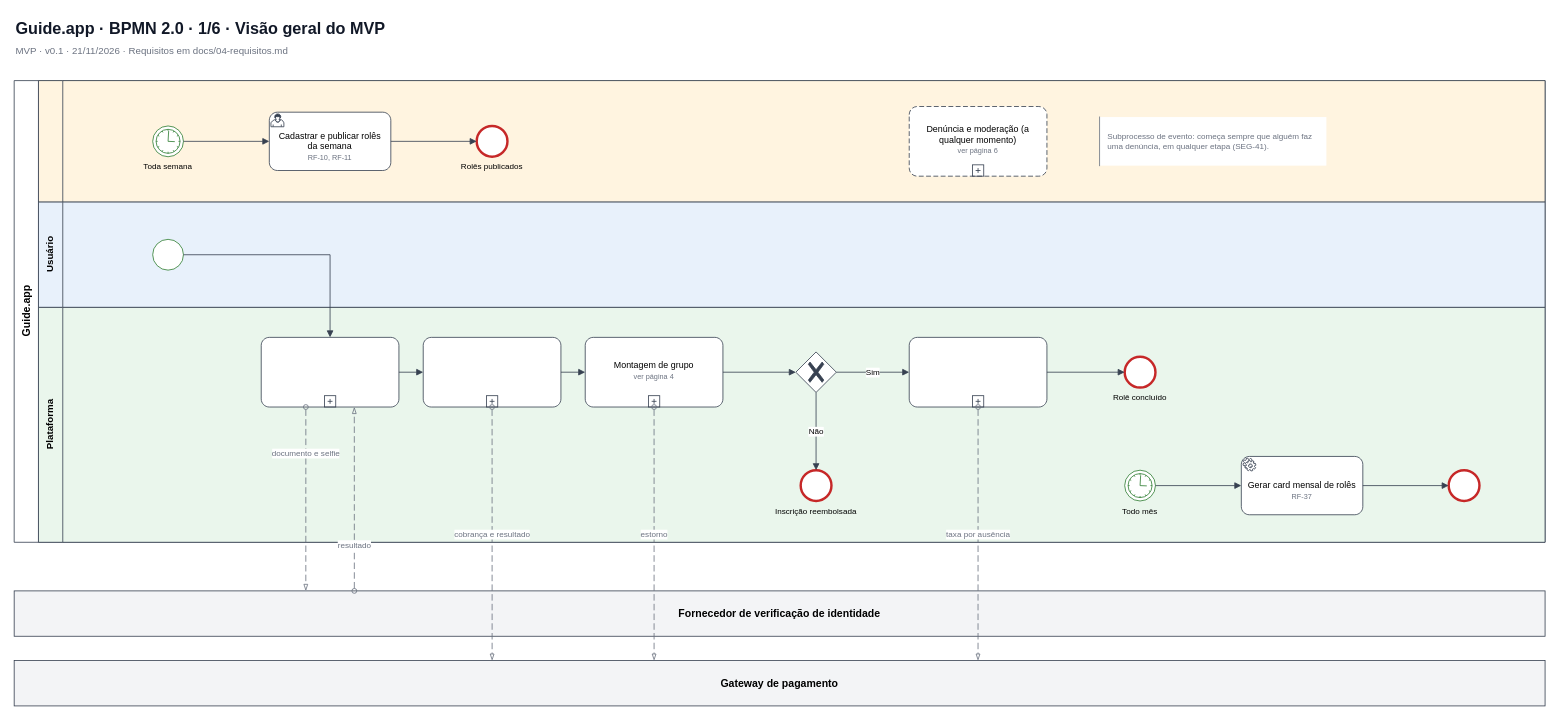
Image size: 1559x720. Some labels were removed from this diagram. Each missing label, with the box of its shape:
Cadastro e verificação ver página 2: (260, 337, 399, 407)
Card disponível: (1448, 469, 1479, 501)
Curadoria e moderação: (38, 80, 1545, 202)
Grupo formado?: (795, 351, 836, 392)
Inscrição e pagamento ver página 3: (422, 337, 561, 407)
Quer viver um rolê com gente nova: (152, 239, 183, 270)
Rolê e pós-rolê ver página 5: (908, 337, 1047, 407)
